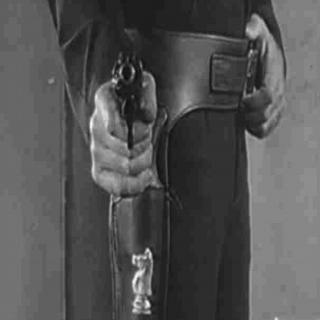gun: (113, 49, 145, 153)
